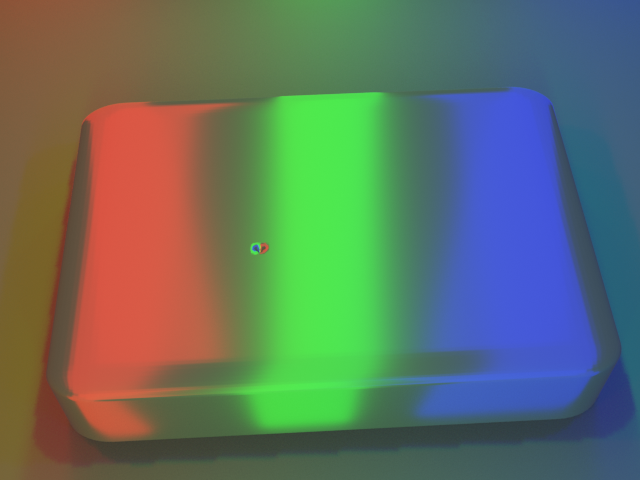dent: (235, 230, 275, 266)
